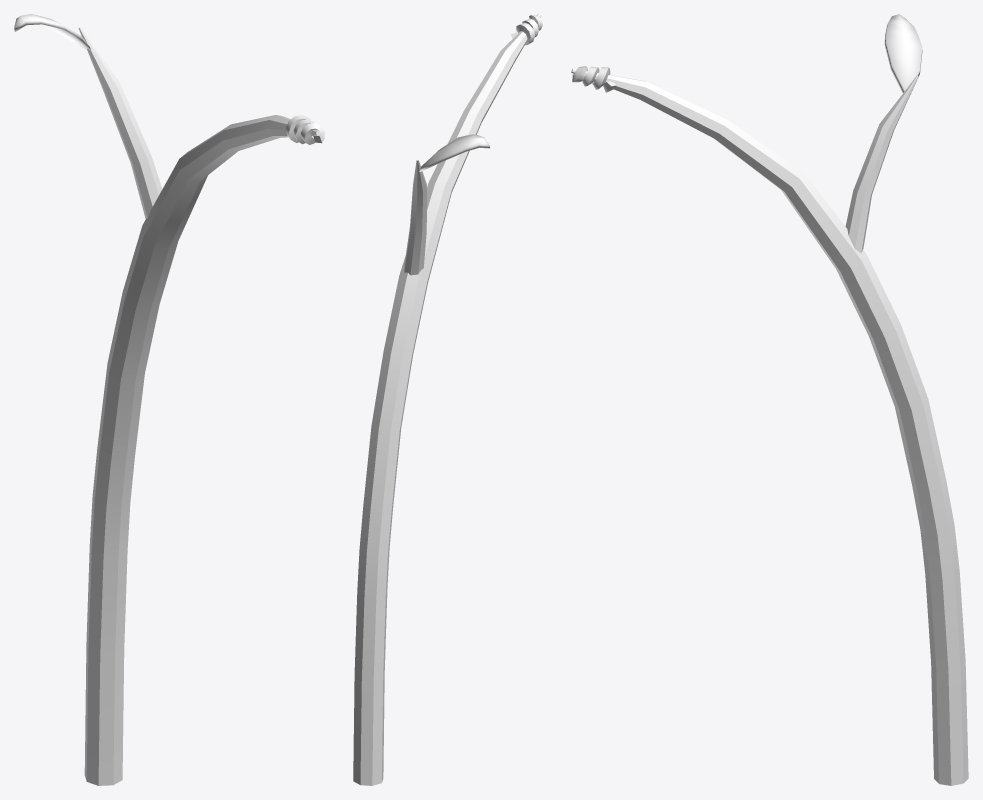
File: Fishing_hand.FBX
3 views of the same model, side by side, from view 1: azimuth 30°, elevation 25°; view 2: azimuth 150°, elevation 25°; view 3: azimuth 270°, elevation 25° (orthographic). The views are drawn at different scales.
Parts seen in each view (by area): view 1: Fishing_hand; view 2: Fishing_hand; view 3: Fishing_hand.
Part boxes in pixels (box(x1,y1,x2,y2)): Fishing_hand: box(14, 14, 324, 785); Fishing_hand: box(353, 14, 542, 785); Fishing_hand: box(571, 14, 968, 785).
Bounding box in the file's own units: 0.3966 × 2.23 × 1.12.
